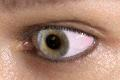eye: (38, 30, 70, 58)
